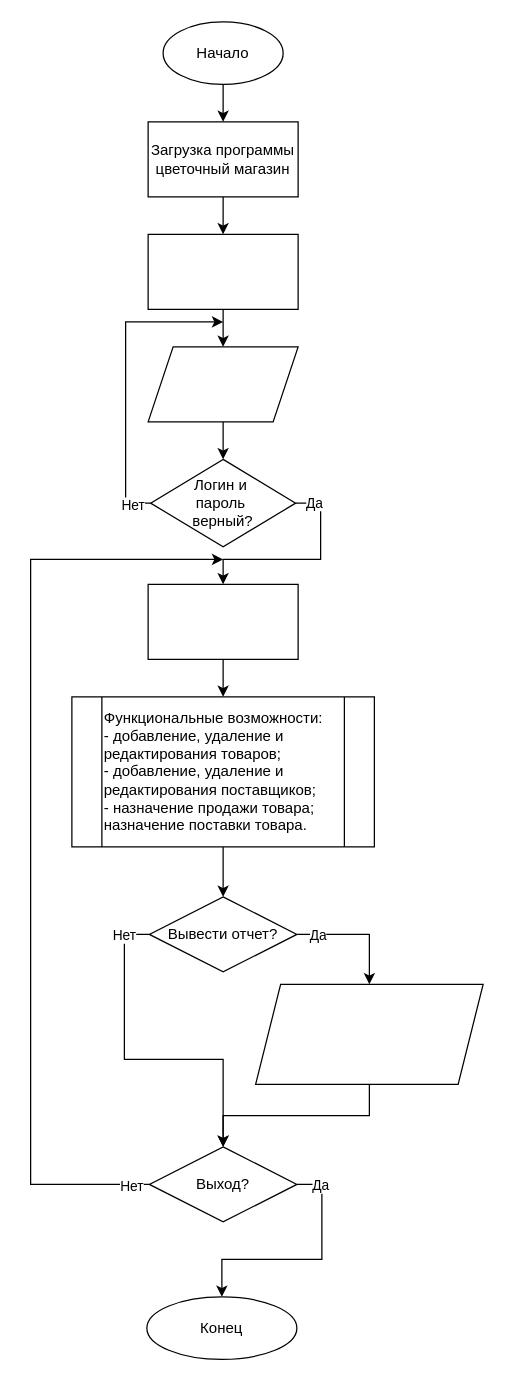
The diagram is 505 pixels wide and 1381 high, and some of its shapes have lost their labels. Each missing label, with the centre of its shape:
"Авторизация" goes at point (222, 271).
"Ввод логина и пароля" goes at point (222, 384).
"Вывод отчетов по товарам, поставщикам, поставкам товаров и продажам" goes at point (368, 1033).
"Просмотр главного окна приложения" goes at point (222, 621).
